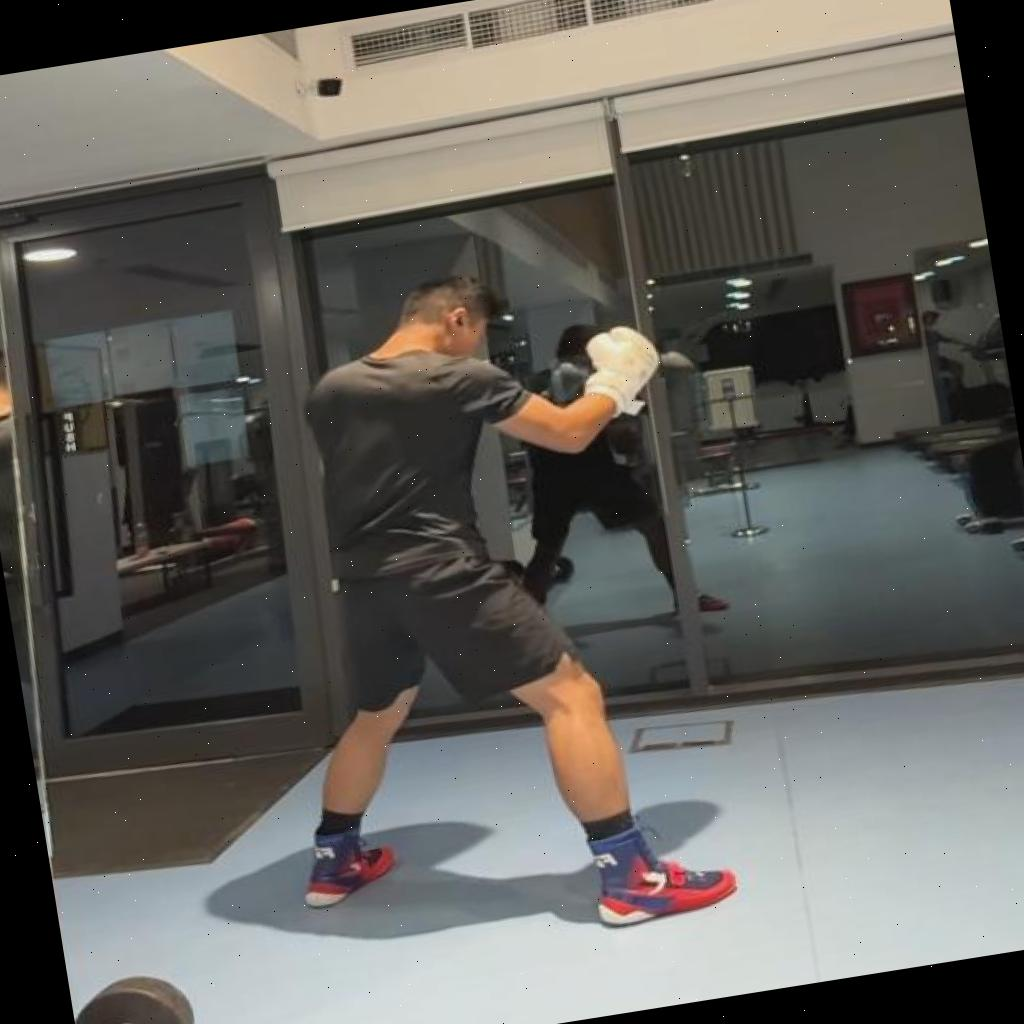uppercut: (211, 235, 750, 976)
